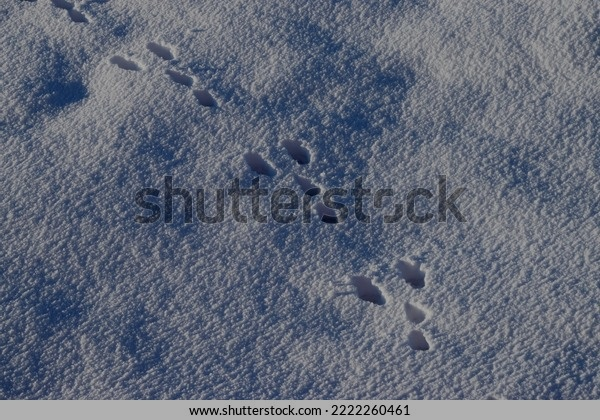rabbit: (102, 35, 240, 122)
